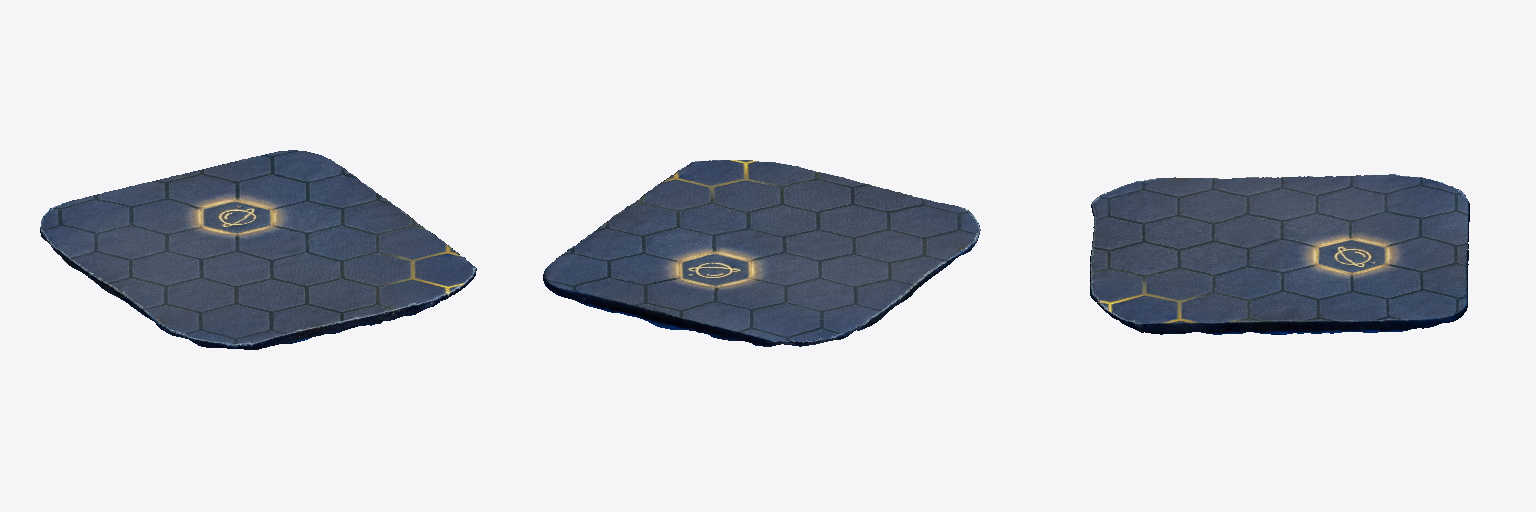
3 renders of one model, left to right at view 1: azimuth 30°, elevation 25°; view 2: azimuth 150°, elevation 25°; view 3: azimuth 270°, elevation 25°, orthographic.
Parts seen in each view (by area): view 1: Mesh; view 2: Mesh; view 3: Mesh.
Boxes of the visible parts, box(x1,y1,x2,y2) form: Mesh: box(40, 150, 476, 349); Mesh: box(543, 160, 980, 346); Mesh: box(1090, 174, 1469, 334).
Bounding box in the file's own units: 0.1475 × 0.0109 × 0.1611.
Materials: 1 (1 with a texture image).